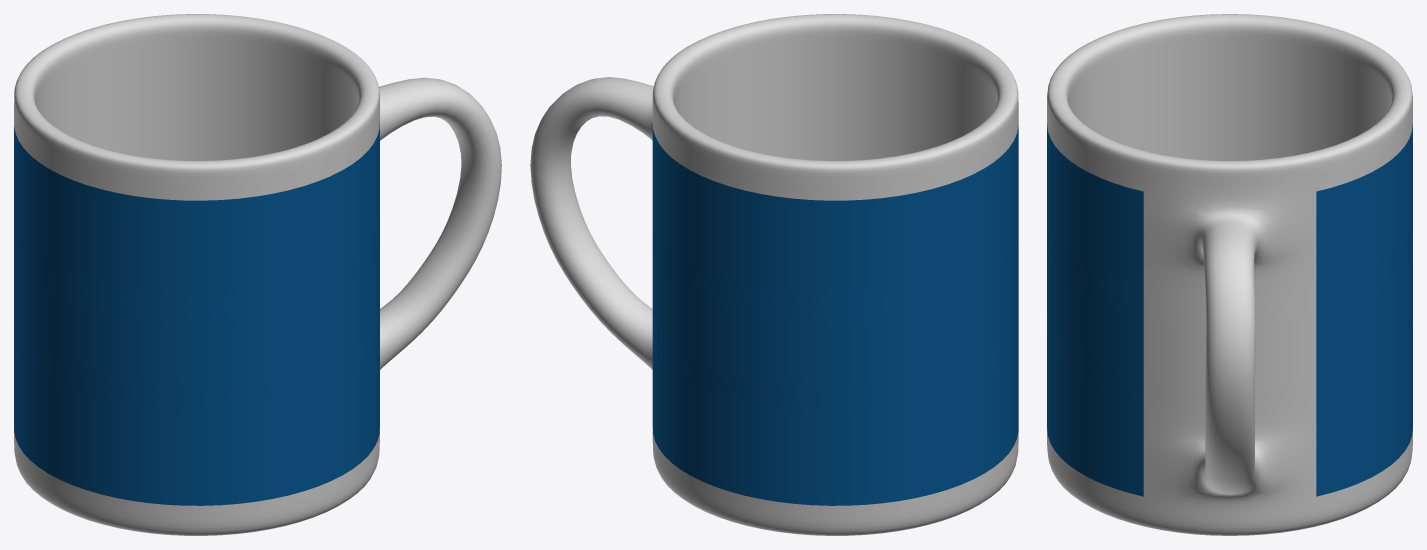
File: taza.gltf
3 views of the same model, side by side, from view 1: azimuth 30°, elevation 25°; view 2: azimuth 150°, elevation 25°; view 3: azimuth 270°, elevation 25° (orthographic).
Visible parts, largest first — view 1: Estampa, Taza; view 2: Estampa, Taza; view 3: Taza, Estampa.
Boxes of the visible parts, <box> form: Estampa: <box>14,123,379,505</box>; Taza: <box>14,14,501,535</box>; Estampa: <box>652,123,1018,505</box>; Taza: <box>530,14,1018,535</box>; Taza: <box>1047,14,1412,535</box>; Estampa: <box>1047,124,1412,496</box>.
Bounding box in the file's own units: 0.0282 × 0.022 × 0.0195.
